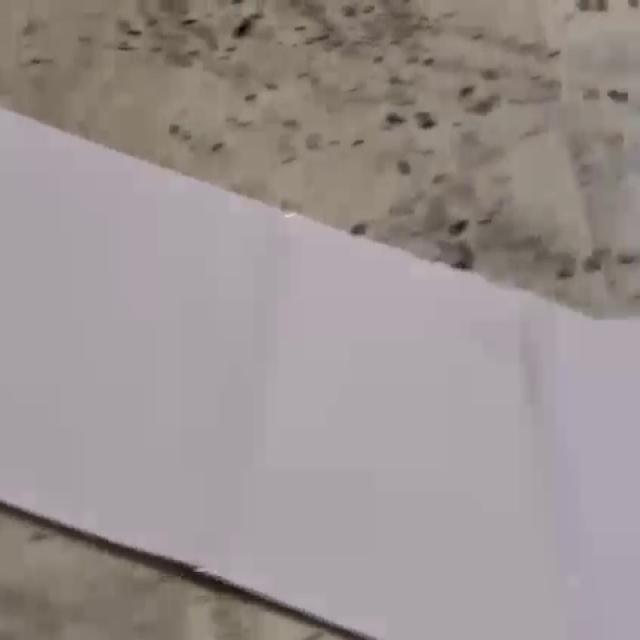road: (0, 109, 640, 639)
